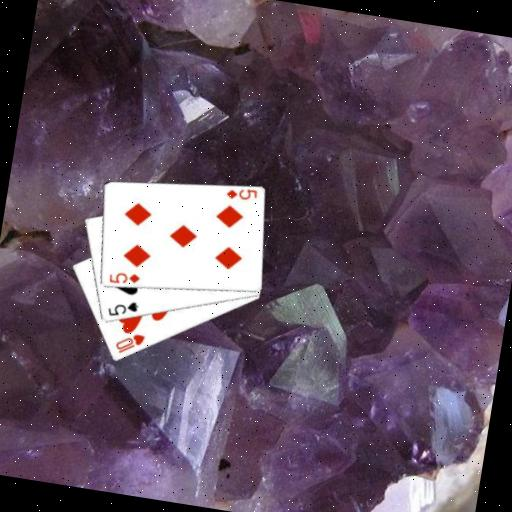10H: (111, 327, 147, 358)
5D: (221, 182, 259, 204), (105, 266, 141, 288)
5S: (103, 294, 140, 321)
